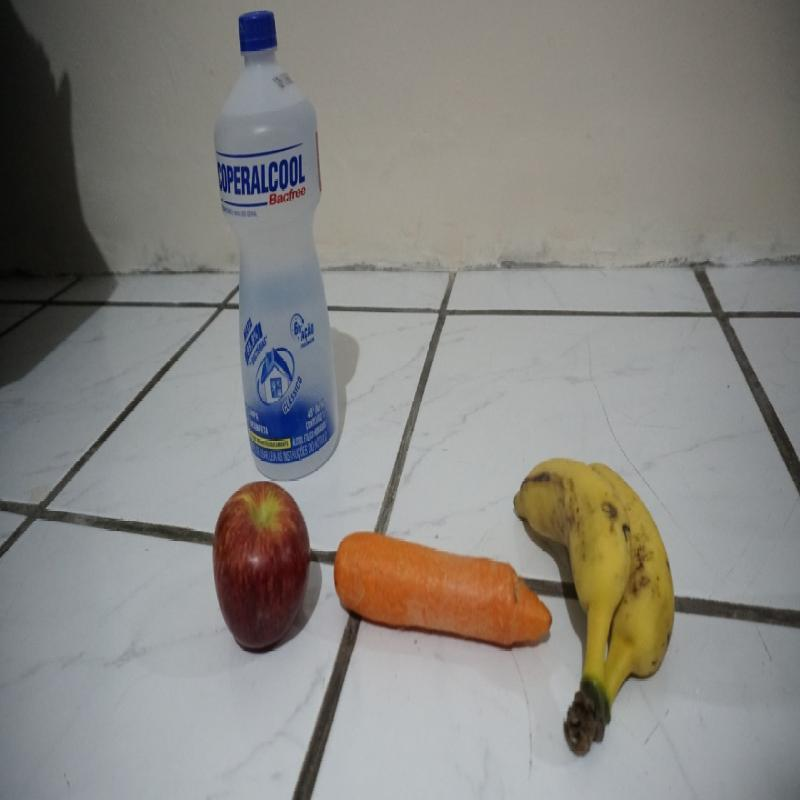Alcohol Bottle: (214, 9, 344, 481)
Apple: (204, 485, 314, 654)
Banana: (546, 439, 697, 754)
Carrot: (333, 527, 546, 669)
